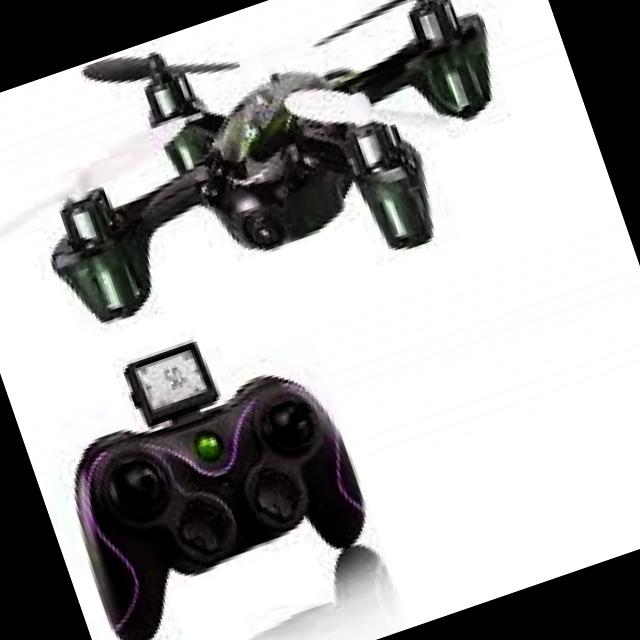drone: (0, 0, 591, 393)
